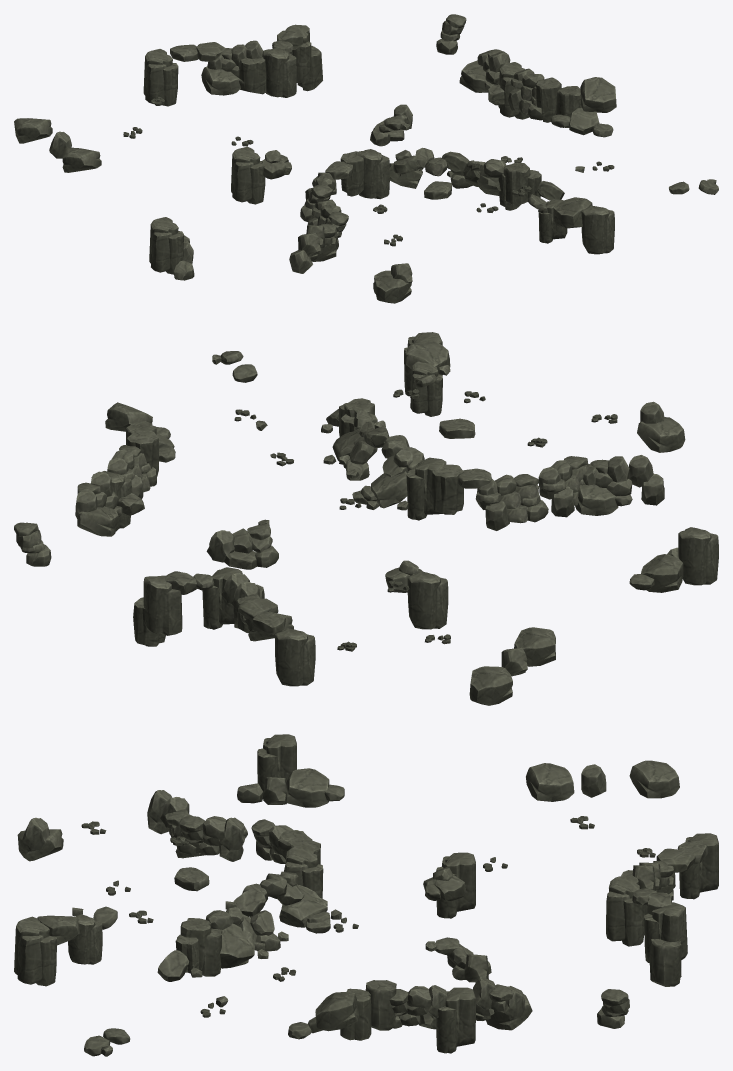
File: Rocks.fbx
3 renders of one model, top to bottom at view 1: azimuth 30°, elevation 25°; view 2: azimuth 150°, elevation 25°; view 3: azimuth 270°, elevation 25°, orthographic. The views are drawn at different scales.
Visible parts, largest first — view 1: Rock_13, Rock_13_2, Rock_13_1, Rock_13_7, Rock_13_5, Rock_13_6, Rock_07_6, Rock_07_2, Rock_08, Rock_09_1, Rock_07_4, Rock_07_8 (+14 smaller); view 2: Rock_13, Rock_13_2, Rock_13_1, Rock_13_3, Rock_13_6, Rock_07_10, Rock_13_5, Rock_10_1, Rock_13_8, Rock_07_9, Rock_07_2, Rock_07 (+17 smaller); view 3: Rock_13_7, Rock_13_5, Rock_13_4, Rock_13_2, Rock_13_3, Rock_13_1, Rock_13, Rock_07_9, Rock_07_10, Rock_07, Rock_10, Rock_07_6 (+24 smaller).
Part boxes in pixels (x1,y1,x2,y2): Rock_13: [231, 146, 265, 204]; Rock_13_2: [143, 49, 178, 106]; Rock_13_1: [149, 217, 183, 274]; Rock_13_7: [581, 205, 614, 254]; Rock_13_5: [263, 47, 296, 97]; Rock_13_6: [355, 149, 389, 199]; Rock_07_6: [580, 77, 616, 112]; Rock_07_2: [373, 270, 411, 303]; Rock_08: [238, 57, 266, 94]; Rock_09_1: [502, 163, 530, 204]; Rock_07_4: [201, 66, 240, 95]; Rock_07_8: [553, 197, 592, 228]; Rock_13: [407, 571, 448, 629]; Rock_13_2: [275, 628, 315, 686]; Rock_13_1: [678, 527, 718, 585]; Rock_13_3: [143, 575, 182, 635]; Rock_13_6: [406, 457, 446, 520]; Rock_07_10: [469, 666, 512, 705]; Rock_13_5: [202, 567, 242, 629]; Rock_10_1: [431, 464, 463, 514]; Rock_13_8: [410, 361, 442, 416]; Rock_07_9: [514, 627, 555, 666]; Rock_07_2: [637, 417, 685, 452]; Rock_07: [641, 554, 683, 592]; Rock_13_7: [14, 916, 56, 986]; Rock_13_5: [606, 875, 645, 946]; Rock_13_4: [436, 987, 475, 1053]; Rock_13_2: [679, 833, 718, 899]; Rock_13_3: [644, 902, 687, 962]; Rock_13_1: [257, 734, 296, 798]; Rock_13: [436, 852, 475, 918]; Rock_07_9: [526, 763, 574, 801]; Rock_07_10: [629, 760, 679, 798]; Rock_07: [286, 768, 329, 807]; Rock_10: [649, 939, 681, 986]; Rock_07_6: [315, 992, 358, 1031].
Bounding box in the file's own units: 4367 × 677 × 4428.
1 material, 1 textured.
